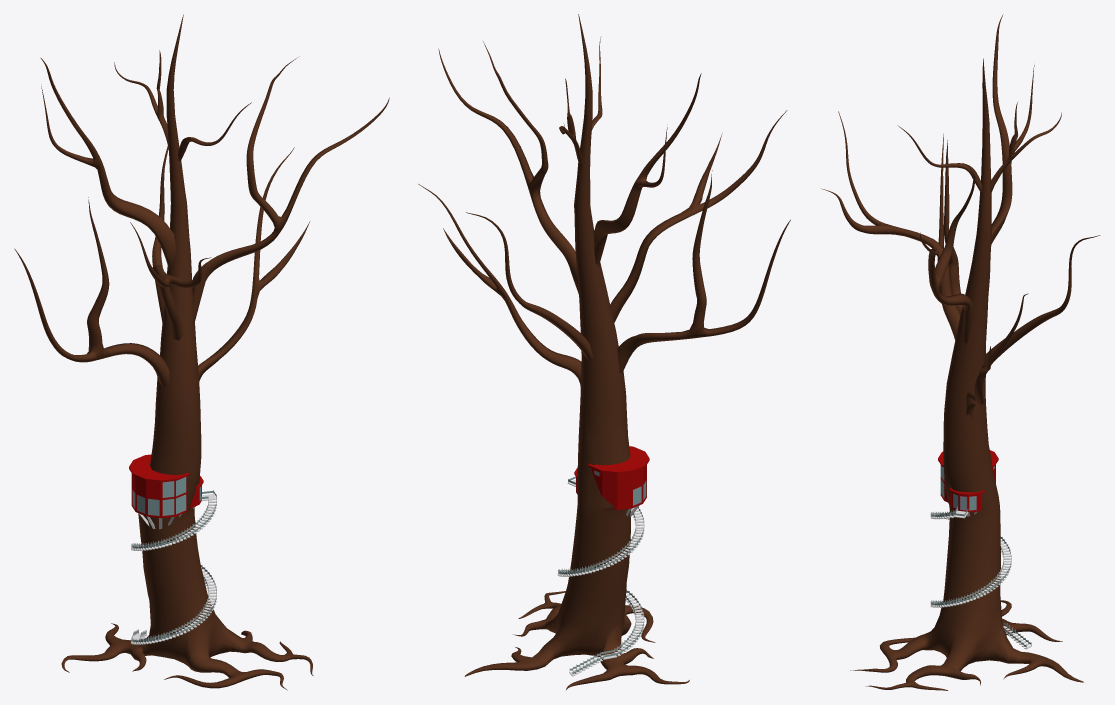
3 views of the same model, side by side, from view 1: azimuth 30°, elevation 25°; view 2: azimuth 150°, elevation 25°; view 3: azimuth 270°, elevation 25° (orthographic). The views are drawn at different scales.
Parts seen in each view (by area): view 1: tree2, house_main, steps, fences, post, roof1; view 2: tree2, house_main, steps, fences, roof1, post; view 3: tree2, steps, fences, house_kitchen, post.
Boxes of the visible parts, x1,y1,x2,y2 form: tree2: [14, 14, 389, 690]; house_main: [131, 473, 188, 518]; steps: [131, 494, 217, 644]; fences: [131, 503, 216, 642]; post: [131, 498, 216, 642]; roof1: [129, 454, 189, 482]; tree2: [418, 14, 790, 689]; house_main: [591, 465, 646, 509]; steps: [557, 479, 644, 676]; fences: [558, 507, 643, 673]; roof1: [588, 446, 649, 473]; post: [558, 507, 644, 675]; tree2: [821, 14, 1100, 690]; steps: [930, 510, 1031, 649]; fences: [931, 511, 1030, 646]; house_kitchen: [949, 492, 982, 512]; post: [930, 510, 1031, 648].
Size of the model in its own units: 197 by 330 by 141.
